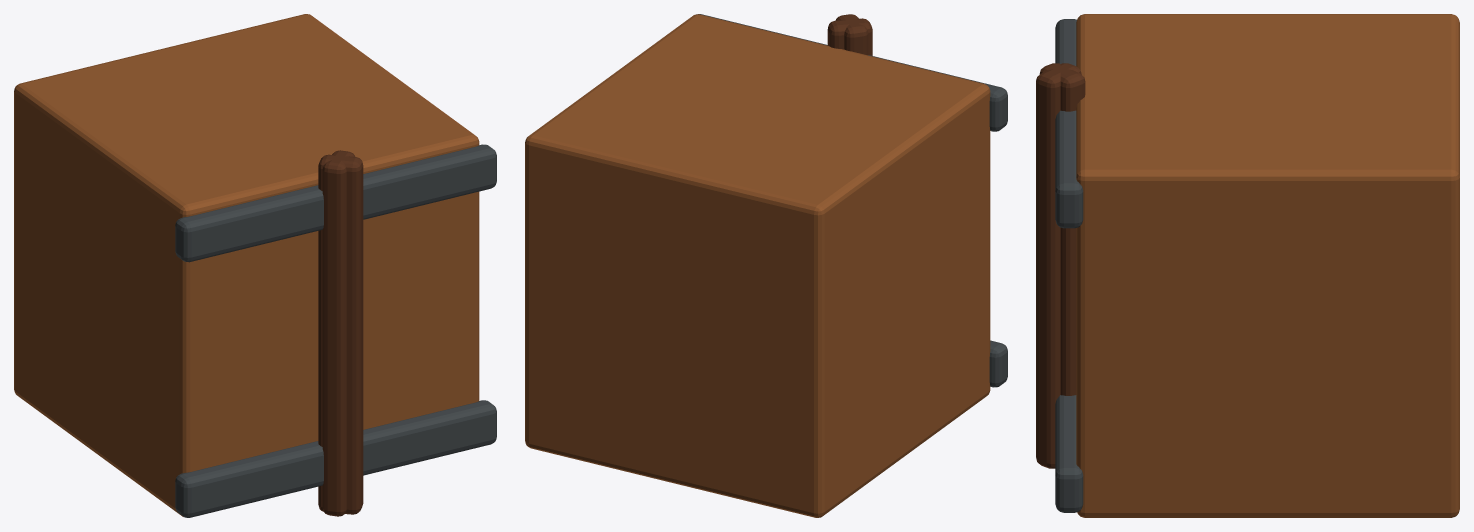
Rendered from SM_Crate.fbx.
3 views of the same model, side by side, from view 1: azimuth 30°, elevation 25°; view 2: azimuth 150°, elevation 25°; view 3: azimuth 270°, elevation 25° (orthographic). The views are drawn at different scales.
Visible parts, largest first — view 1: SM_Crate; view 2: SM_Crate; view 3: SM_Crate.
Boxes of the visible parts, x1,y1,x2,y2 form: SM_Crate: [14, 14, 496, 517]; SM_Crate: [525, 14, 1007, 517]; SM_Crate: [1036, 14, 1459, 517].
Size of the model in its own units: 116 by 122 by 124.
